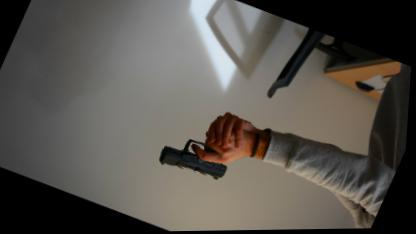pistol: (157, 128, 237, 186)
